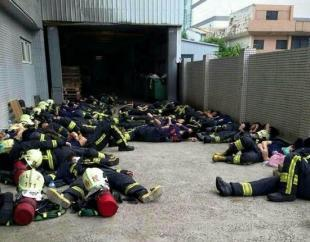10+: (2, 81, 310, 210)
